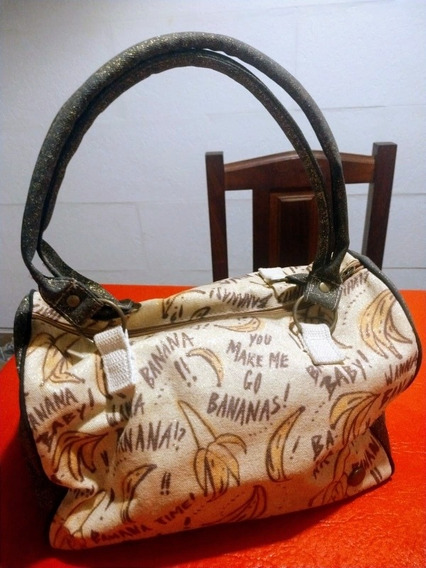cartera: (11, 27, 421, 548)
